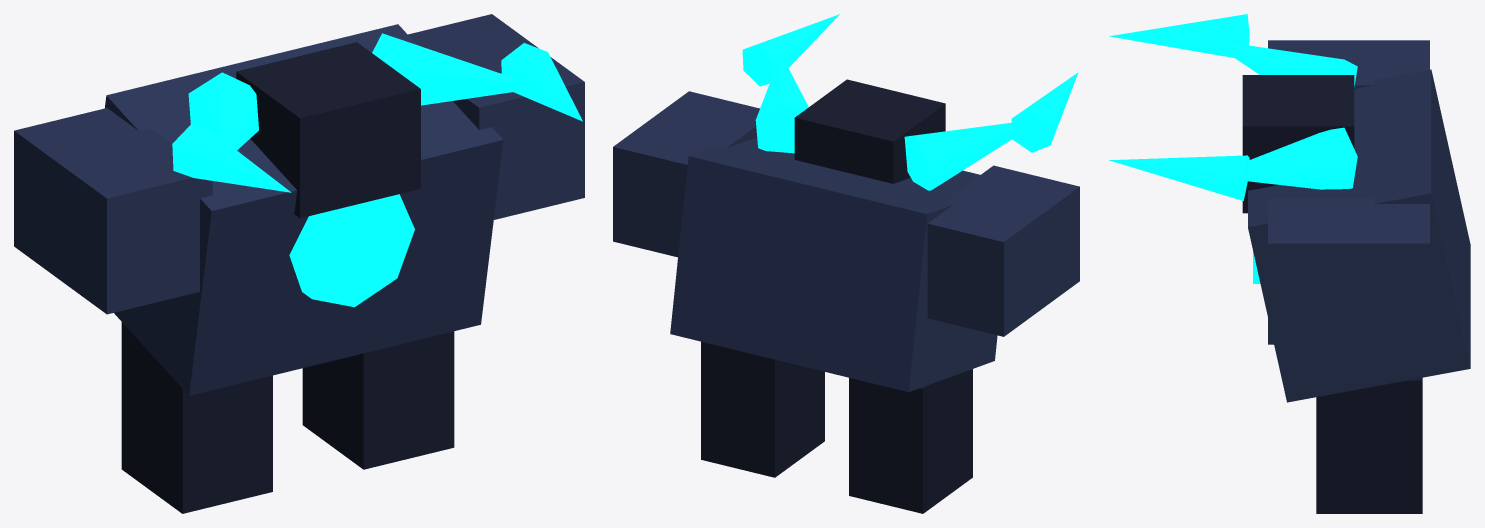
The model's file is enemy_charger.glb.
3 renders of one model, left to right at view 1: azimuth 30°, elevation 25°; view 2: azimuth 150°, elevation 25°; view 3: azimuth 270°, elevation 25°, orthographic. The views are drawn at different scales.
Visible parts, largest first — view 1: torso_hull, pauldron_l, helm, leg_l, leg_r, pauldron_r, reactor_core, horn_base_r, horn_tip_l, horn_base_l, horn_tip_r; view 2: torso_hull, pauldron_l, leg_l, leg_r, pauldron_r, helm, horn_base_l, horn_base_r, horn_tip_r, horn_tip_l; view 3: torso_hull, pauldron_r, leg_r, helm, horn_base_r, pauldron_l, horn_tip_r, horn_tip_l, horn_base_l.
Boxes of the visible parts, x1,y1,x2,y2 form: torso_hull: (105, 24, 503, 395); pauldron_l: (14, 108, 212, 314); helm: (236, 42, 420, 218); leg_l: (121, 322, 272, 513); leg_r: (302, 331, 454, 469); pauldron_r: (408, 14, 584, 219); reactor_core: (289, 194, 414, 307); horn_base_r: (372, 33, 515, 105); horn_tip_l: (172, 124, 291, 192); horn_base_l: (188, 72, 258, 150); horn_tip_r: (501, 43, 582, 121); torso_hull: (670, 137, 997, 392); pauldron_l: (927, 165, 1079, 336); leg_l: (849, 369, 972, 513); leg_r: (701, 341, 824, 477); pauldron_r: (613, 91, 759, 257); helm: (794, 79, 945, 183); horn_base_l: (904, 122, 1013, 190); horn_base_r: (755, 63, 808, 153); horn_tip_r: (742, 14, 839, 86); horn_tip_l: (1011, 72, 1078, 152); torso_hull: (1248, 69, 1470, 402); pauldron_r: (1268, 198, 1429, 344); leg_r: (1316, 377, 1422, 513); helm: (1242, 75, 1354, 213); horn_base_r: (1248, 127, 1357, 189); pauldron_l: (1268, 40, 1429, 88); horn_tip_r: (1109, 155, 1249, 200); horn_tip_l: (1109, 14, 1249, 57); horn_base_l: (1224, 43, 1357, 86).
Size of the model in its own units: 1.9 by 1.62 by 1.43.
